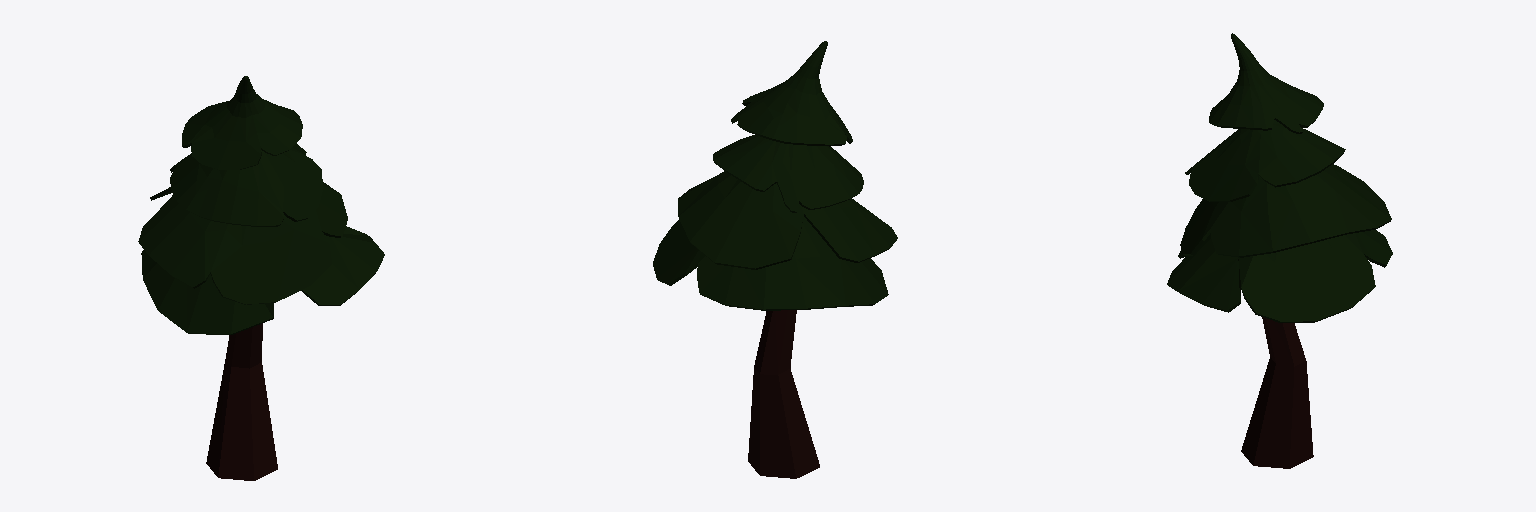
File: PineTree_5.obj
The picture shows the model from 3 angles: view 1: azimuth 30°, elevation 25°; view 2: azimuth 150°, elevation 25°; view 3: azimuth 270°, elevation 25°; orthographic projection.
Visible parts, largest first — view 1: PineTree_5_Cylinder.028; view 2: PineTree_5_Cylinder.028; view 3: PineTree_5_Cylinder.028.
Part boxes in pixels (bbox=[...]): PineTree_5_Cylinder.028: bbox=[138, 76, 384, 480]; PineTree_5_Cylinder.028: bbox=[653, 41, 897, 478]; PineTree_5_Cylinder.028: bbox=[1167, 33, 1392, 468].
Bounding box in the file's own units: 1.47 × 2.69 × 1.34.